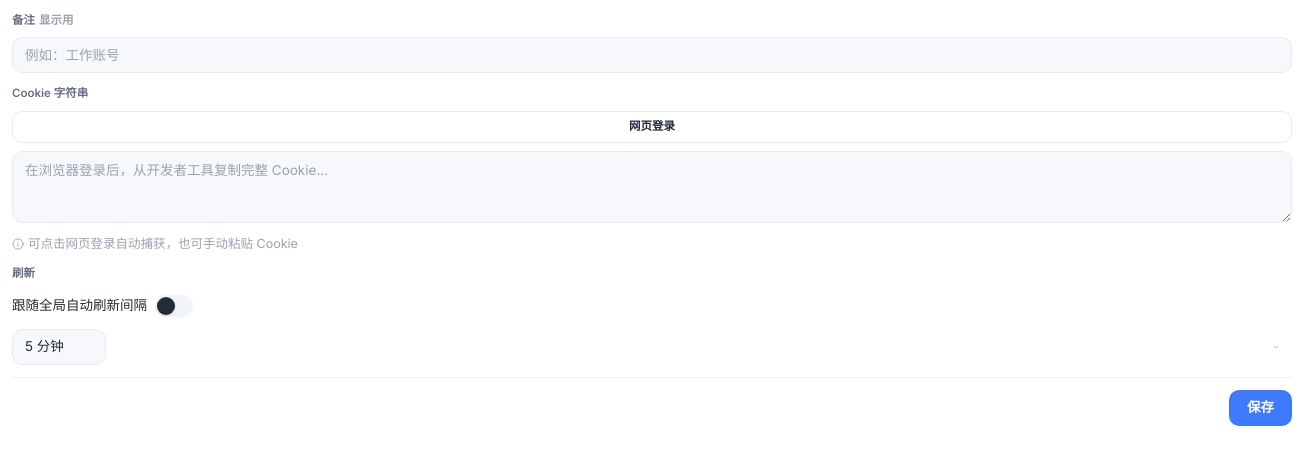
it: SettingsForm session editing (t157) › shows Chinese timeout when cookie login poll exceeds 120s (t282)
Click the button with test id "session-login-SESSION_COOKIE" at (652, 126), box [12,110,1292,142]
Wait 121000 ms
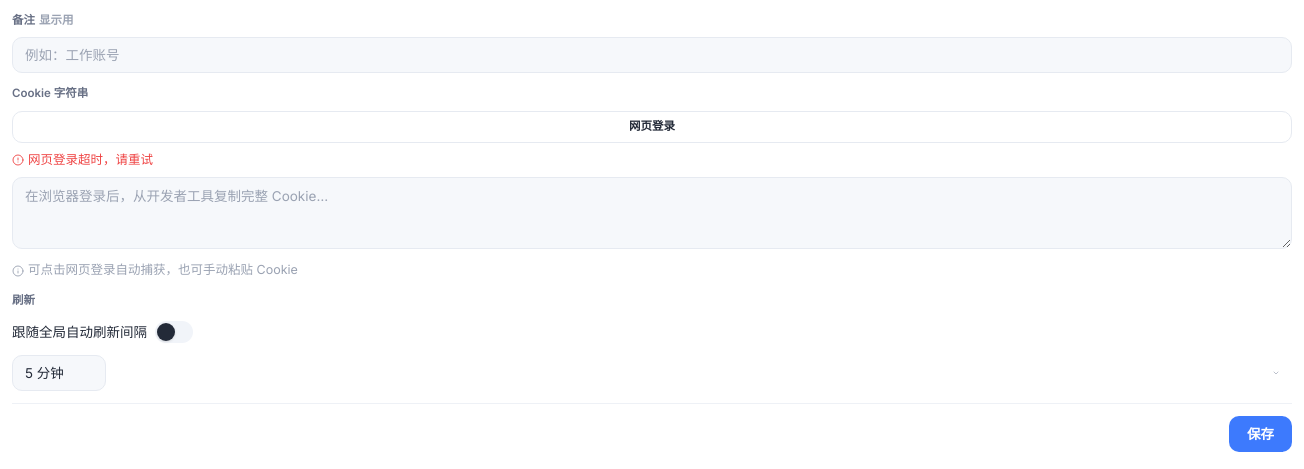
Now the message reads "网页登录超时，请重试", box [28,152,153,166]
